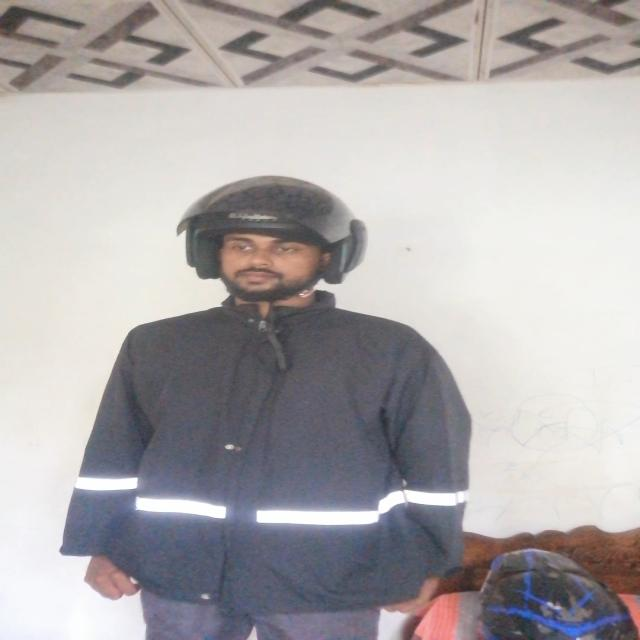Helmet_Wearer: (139, 175, 382, 325)
Jacket_Wearer: (71, 280, 514, 611)
Person: (98, 185, 481, 640)
